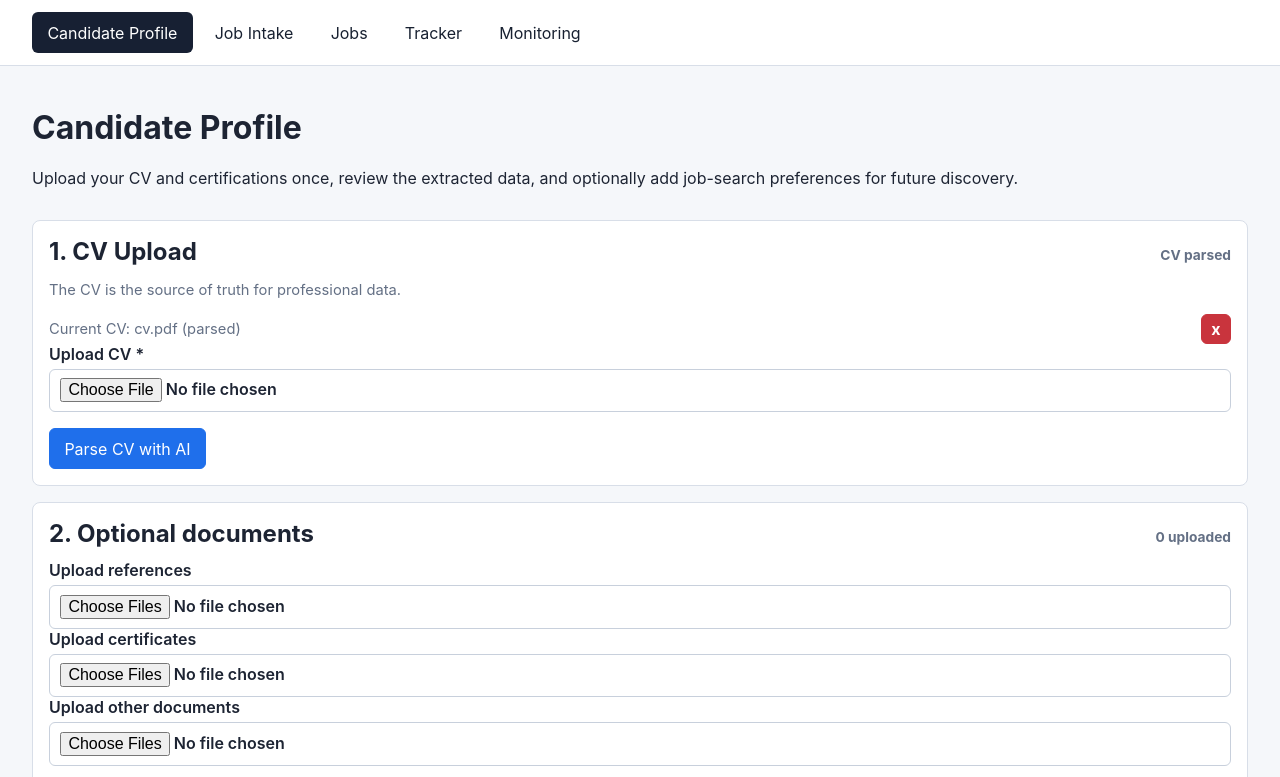
Test: App workflow pages › deletes the uploaded CV from the Candidate Profile UI
Expected: the text "Current CV: cv.pdf (parsed)" is shown, [49,320,241,338]
Click the button named "Delete cv.pdf". click: (1216, 329)
box: [1201,314,1231,344]
(page scrolled)
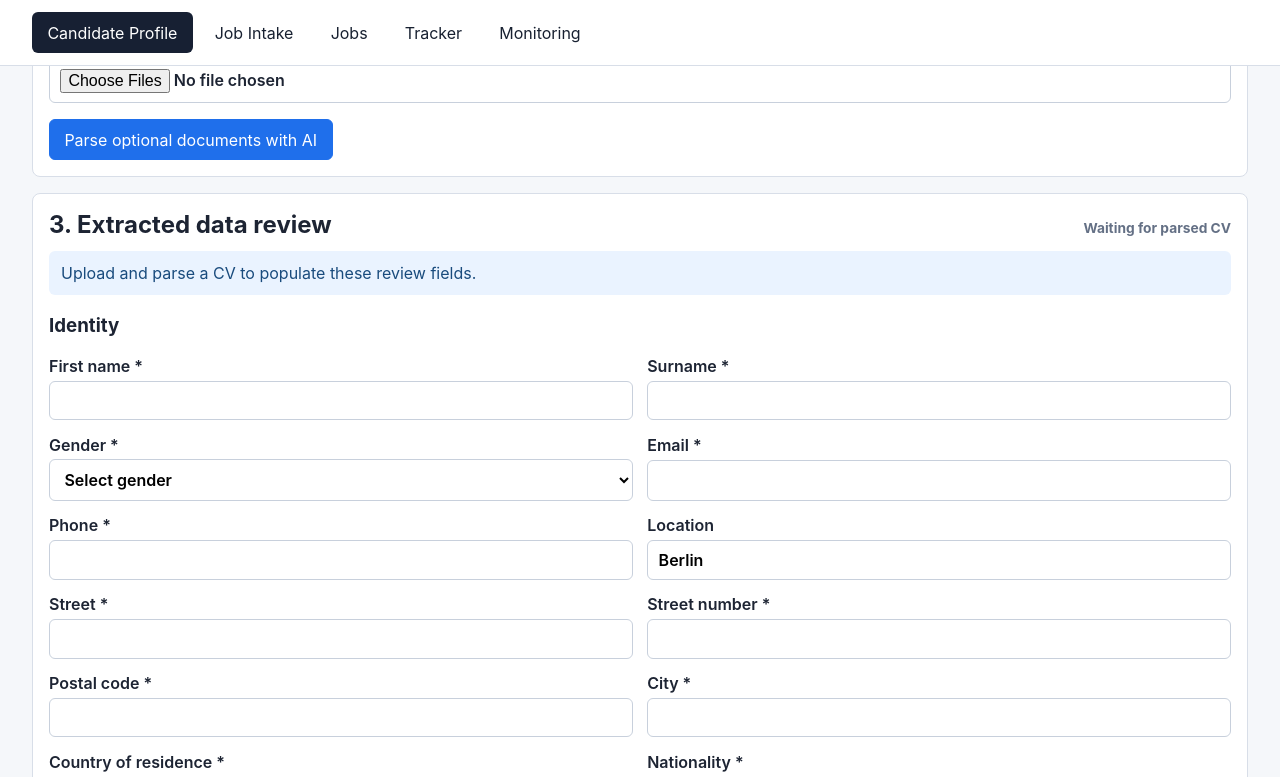
Expected: the text "Current CV: cv.pdf" is gone
Expected: the field labelled "First name *" is empty, [49,381,633,420]
